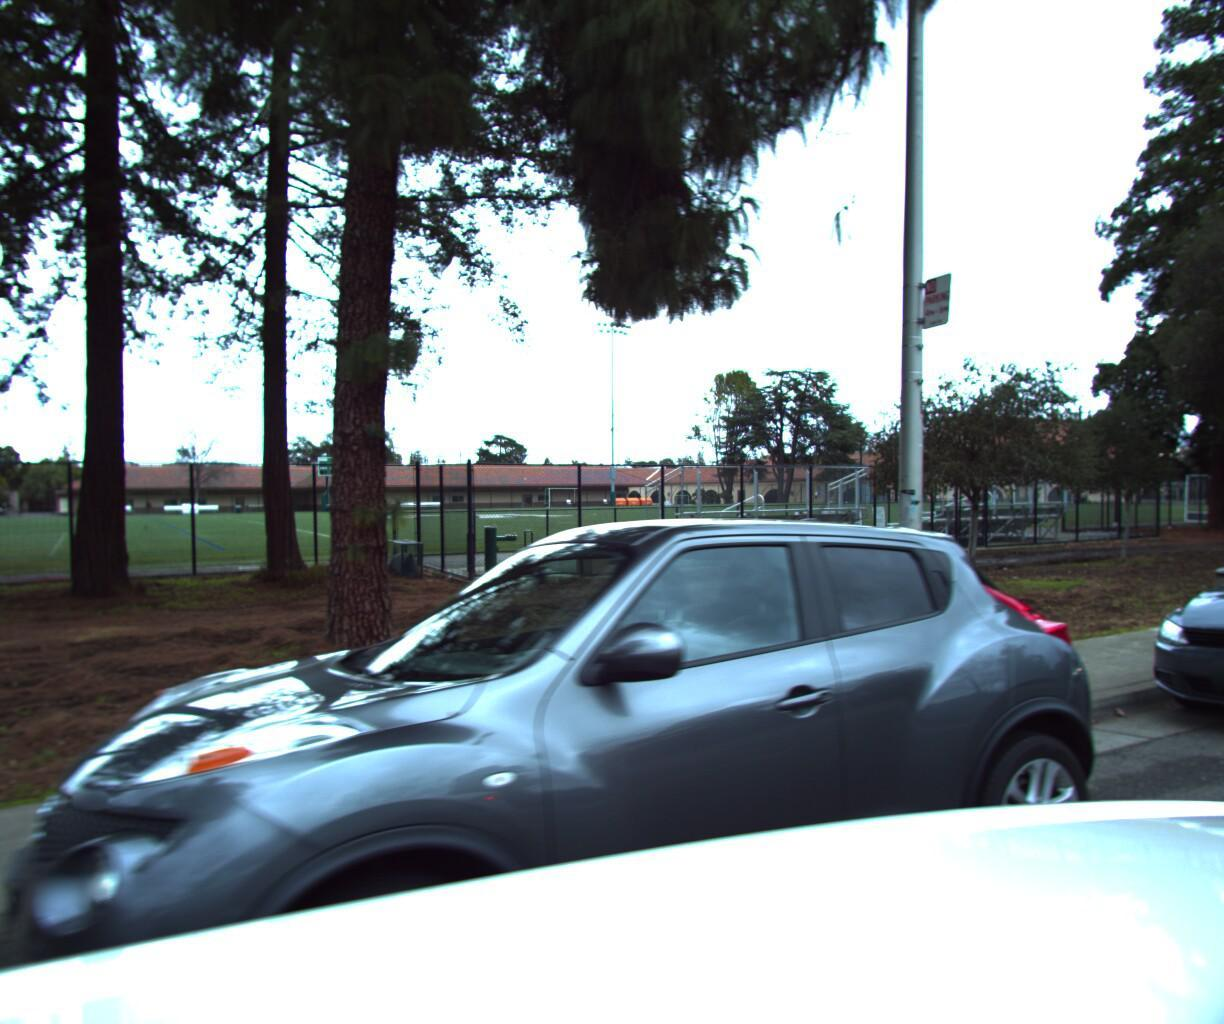car: (0, 503, 1164, 1024), (1115, 498, 1224, 786)
